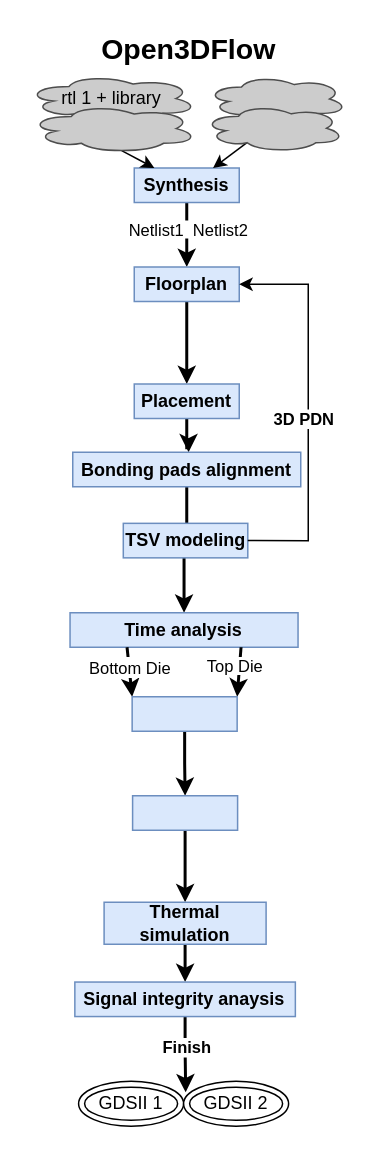
The diagram is 374 pixels wide and 1154 high, and some of its shapes have lost their labels. Each missing label, with the centre of its shape:
"3D Routing" belongs at (184,812).
"constrain 1" belongs at (276,98).
"constrain 2" belongs at (273,127).
"CTS" belongs at (184,713).
"rtl 2 + library" belongs at (112,128).
